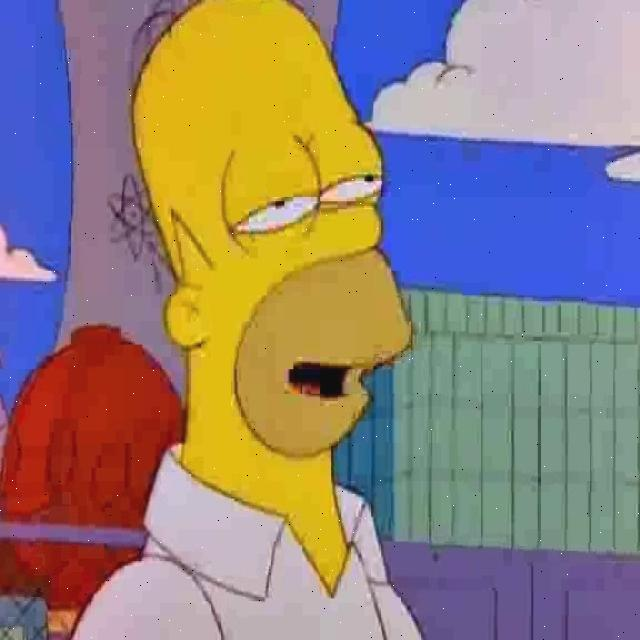Homer Simpson: (123, 1, 417, 504)
